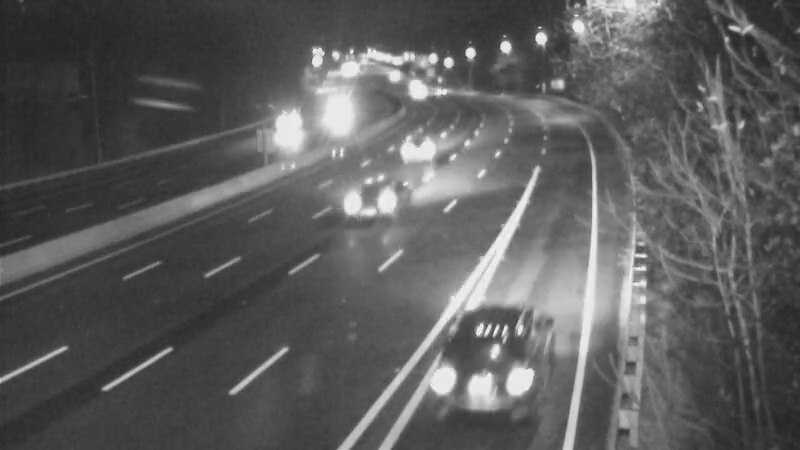vehicle: (430, 320, 540, 430), (363, 117, 443, 197), (324, 162, 404, 242), (369, 50, 419, 100), (387, 61, 437, 111), (414, 69, 464, 119), (391, 66, 441, 116), (267, 102, 317, 152), (315, 84, 365, 134)
